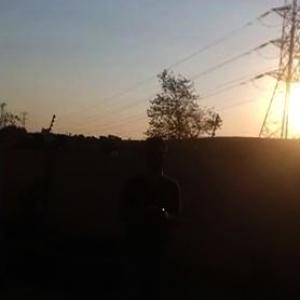follow: (114, 133, 189, 299)
